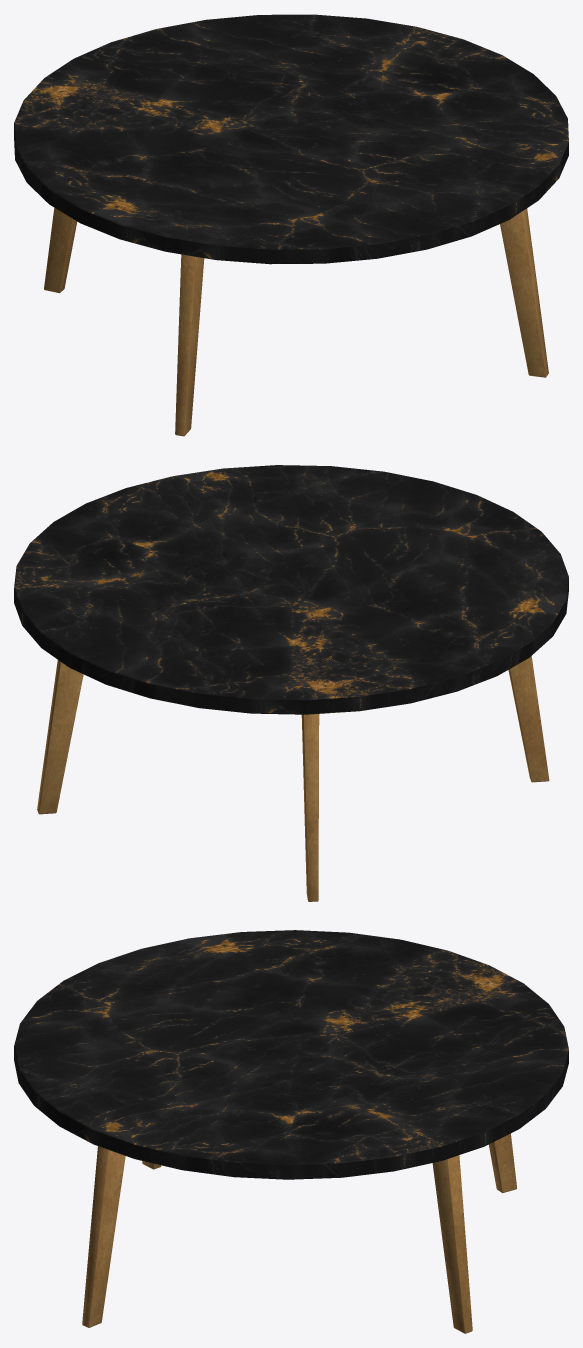
The model's file is garden-table.glb.
3 views of the same model, one above another, from view 1: azimuth 30°, elevation 25°; view 2: azimuth 150°, elevation 25°; view 3: azimuth 270°, elevation 25° (orthographic).
Visible parts, largest first — view 1: table; view 2: table; view 3: table.
Boxes of the visible parts, x1,y1,x2,y2 form: table: [14, 14, 568, 436]; table: [14, 465, 568, 901]; table: [14, 930, 568, 1333].
Size of the model in its own units: 0.8907 by 0.3638 by 0.8907.
Materials: 2 (2 with a texture image).
